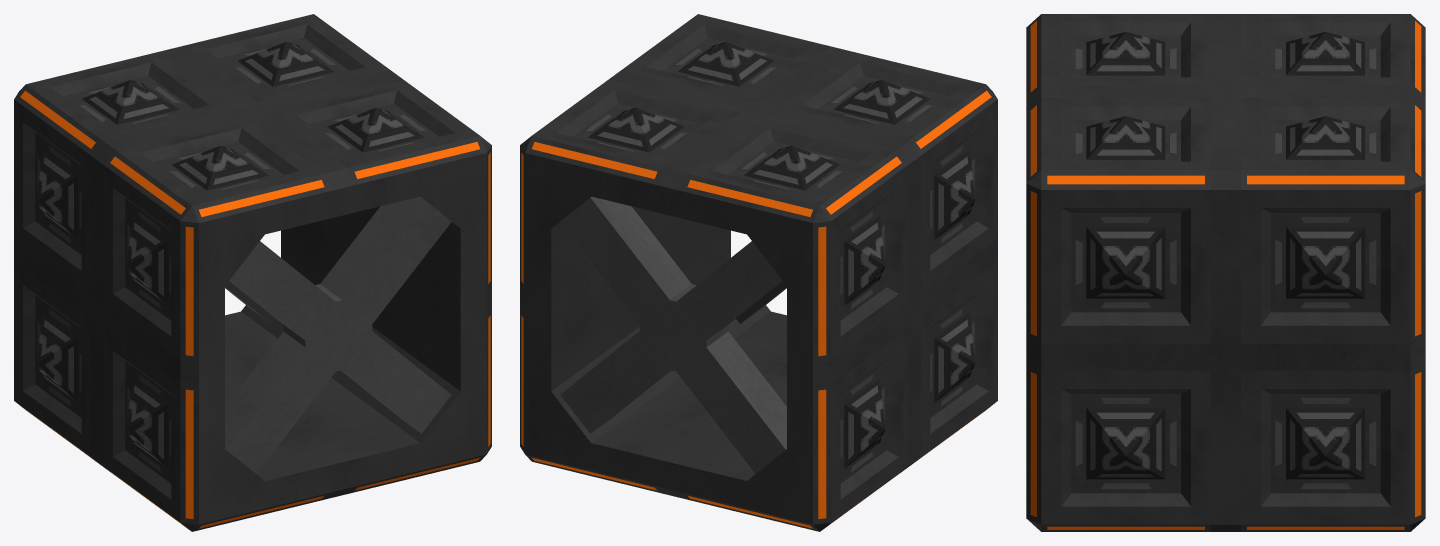
File: IEC Reactor Frame.obj
3 renders of one model, left to right at view 1: azimuth 30°, elevation 25°; view 2: azimuth 150°, elevation 25°; view 3: azimuth 270°, elevation 25°, orthographic. The views are drawn at different scales.
Parts seen in each view (by area): view 1: IEC_One_Block_Cube_HS_One_Block.002; view 2: IEC_One_Block_Cube_HS_One_Block.002; view 3: IEC_One_Block_Cube_HS_One_Block.002.
Boxes of the visible parts, box(x1,y1,x2,y2) form: IEC_One_Block_Cube_HS_One_Block.002: box(14, 14, 491, 531); IEC_One_Block_Cube_HS_One_Block.002: box(520, 14, 997, 531); IEC_One_Block_Cube_HS_One_Block.002: box(1026, 14, 1425, 531).
Bounding box in the file's own units: 2.2 × 2.2 × 2.
